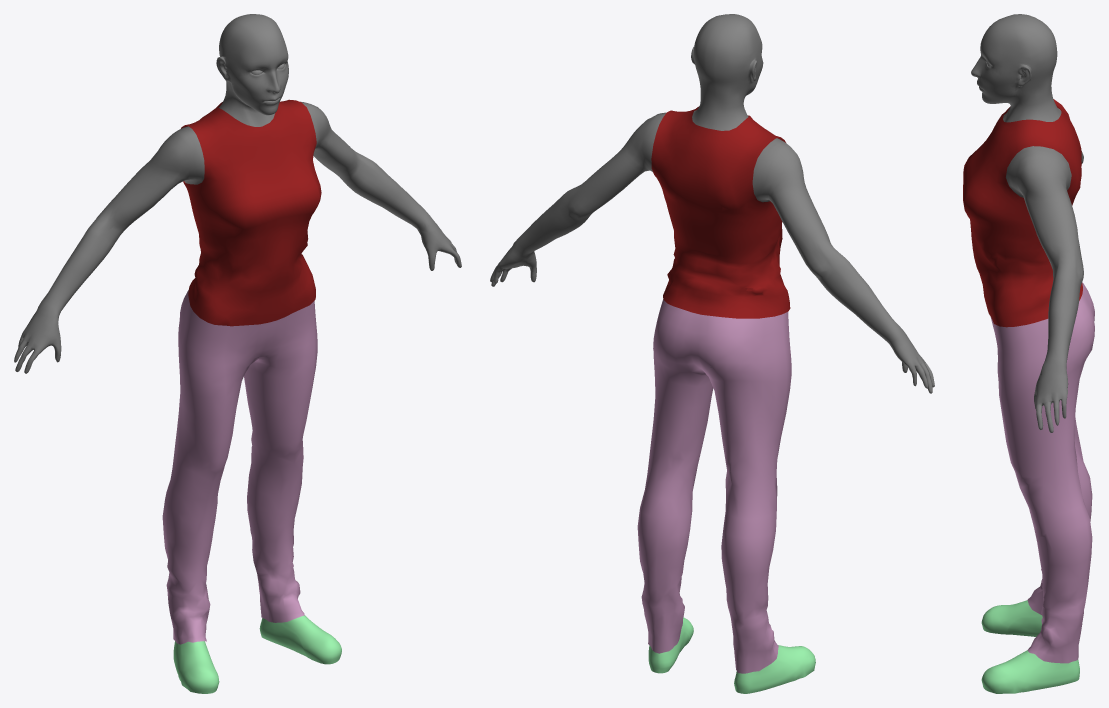
The model's file is MainCharacter.fbx.
3 renders of one model, left to right at view 1: azimuth 30°, elevation 25°; view 2: azimuth 150°, elevation 25°; view 3: azimuth 270°, elevation 25°, orthographic.
Parts seen in each view (by area): view 1: Trousers4, Top, RetopologizedPlayerCharacater_polySurface1, Shoes; view 2: Trousers4, RetopologizedPlayerCharacater_polySurface1, Top, Shoes; view 3: Trousers4, RetopologizedPlayerCharacater_polySurface1, Top, Shoes.
Boxes of the visible parts, x1=… form: Trousers4: x1=162, y1=289, x2=317, y2=644; Top: x1=181, y1=99, x2=321, y2=326; RetopologizedPlayerCharacater_polySurface1: x1=14, y1=14, x2=461, y2=373; Shoes: x1=173, y1=615, x2=341, y2=693; Trousers4: x1=637, y1=299, x2=791, y2=673; RetopologizedPlayerCharacater_polySurface1: x1=490, y1=14, x2=934, y2=393; Top: x1=651, y1=106, x2=790, y2=318; Shoes: x1=648, y1=617, x2=815, y2=693; Trousers4: x1=990, y1=282, x2=1094, y2=663; RetopologizedPlayerCharacater_polySurface1: x1=971, y1=14, x2=1083, y2=432; Top: x1=963, y1=99, x2=1082, y2=327; Shoes: x1=981, y1=600, x2=1079, y2=693.
Size of the model in its own units: 13.98 by 19.48 by 3.64.
